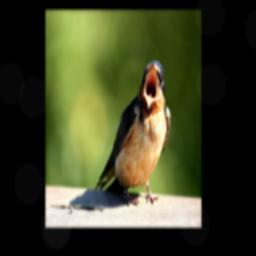Swallow: (95, 59, 172, 207)
